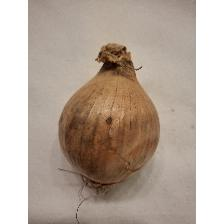Zwiebel: (55, 40, 162, 224)
